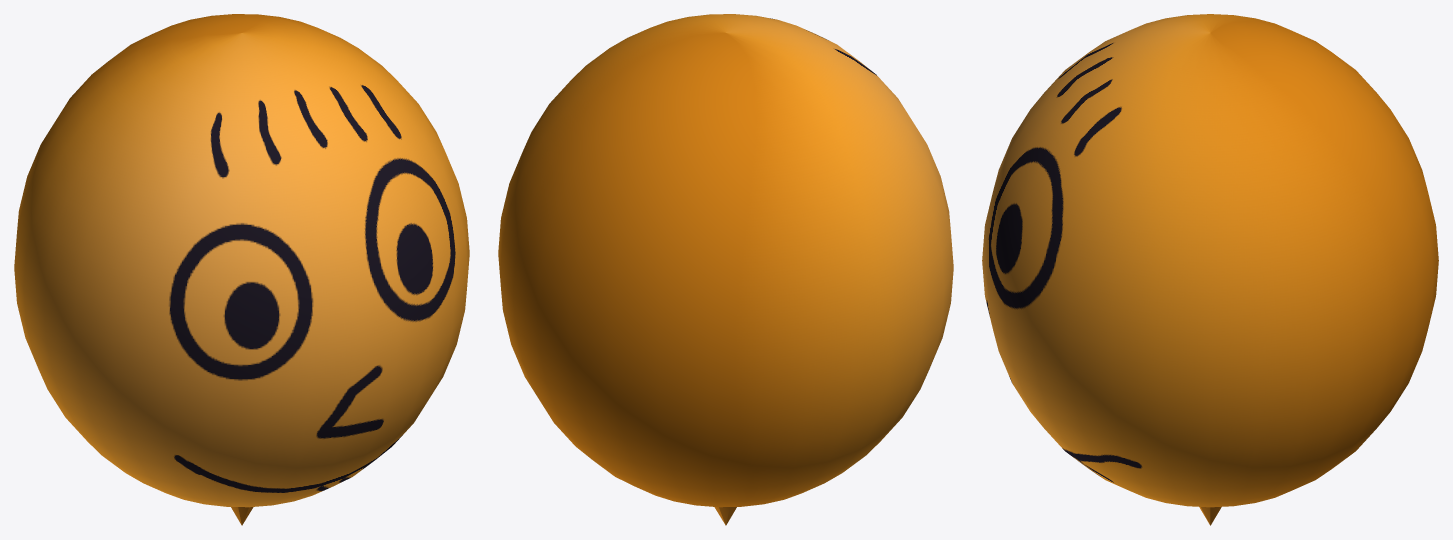
Rendered from pappnase.glb.
The picture shows the model from 3 angles, left to right: view 1: azimuth 30°, elevation 25°; view 2: azimuth 150°, elevation 25°; view 3: azimuth 270°, elevation 25°; orthographic projection.
Size of the model in its own units: 1.1 by 1.31 by 1.1.
Materials: 2 (1 with a texture image).
